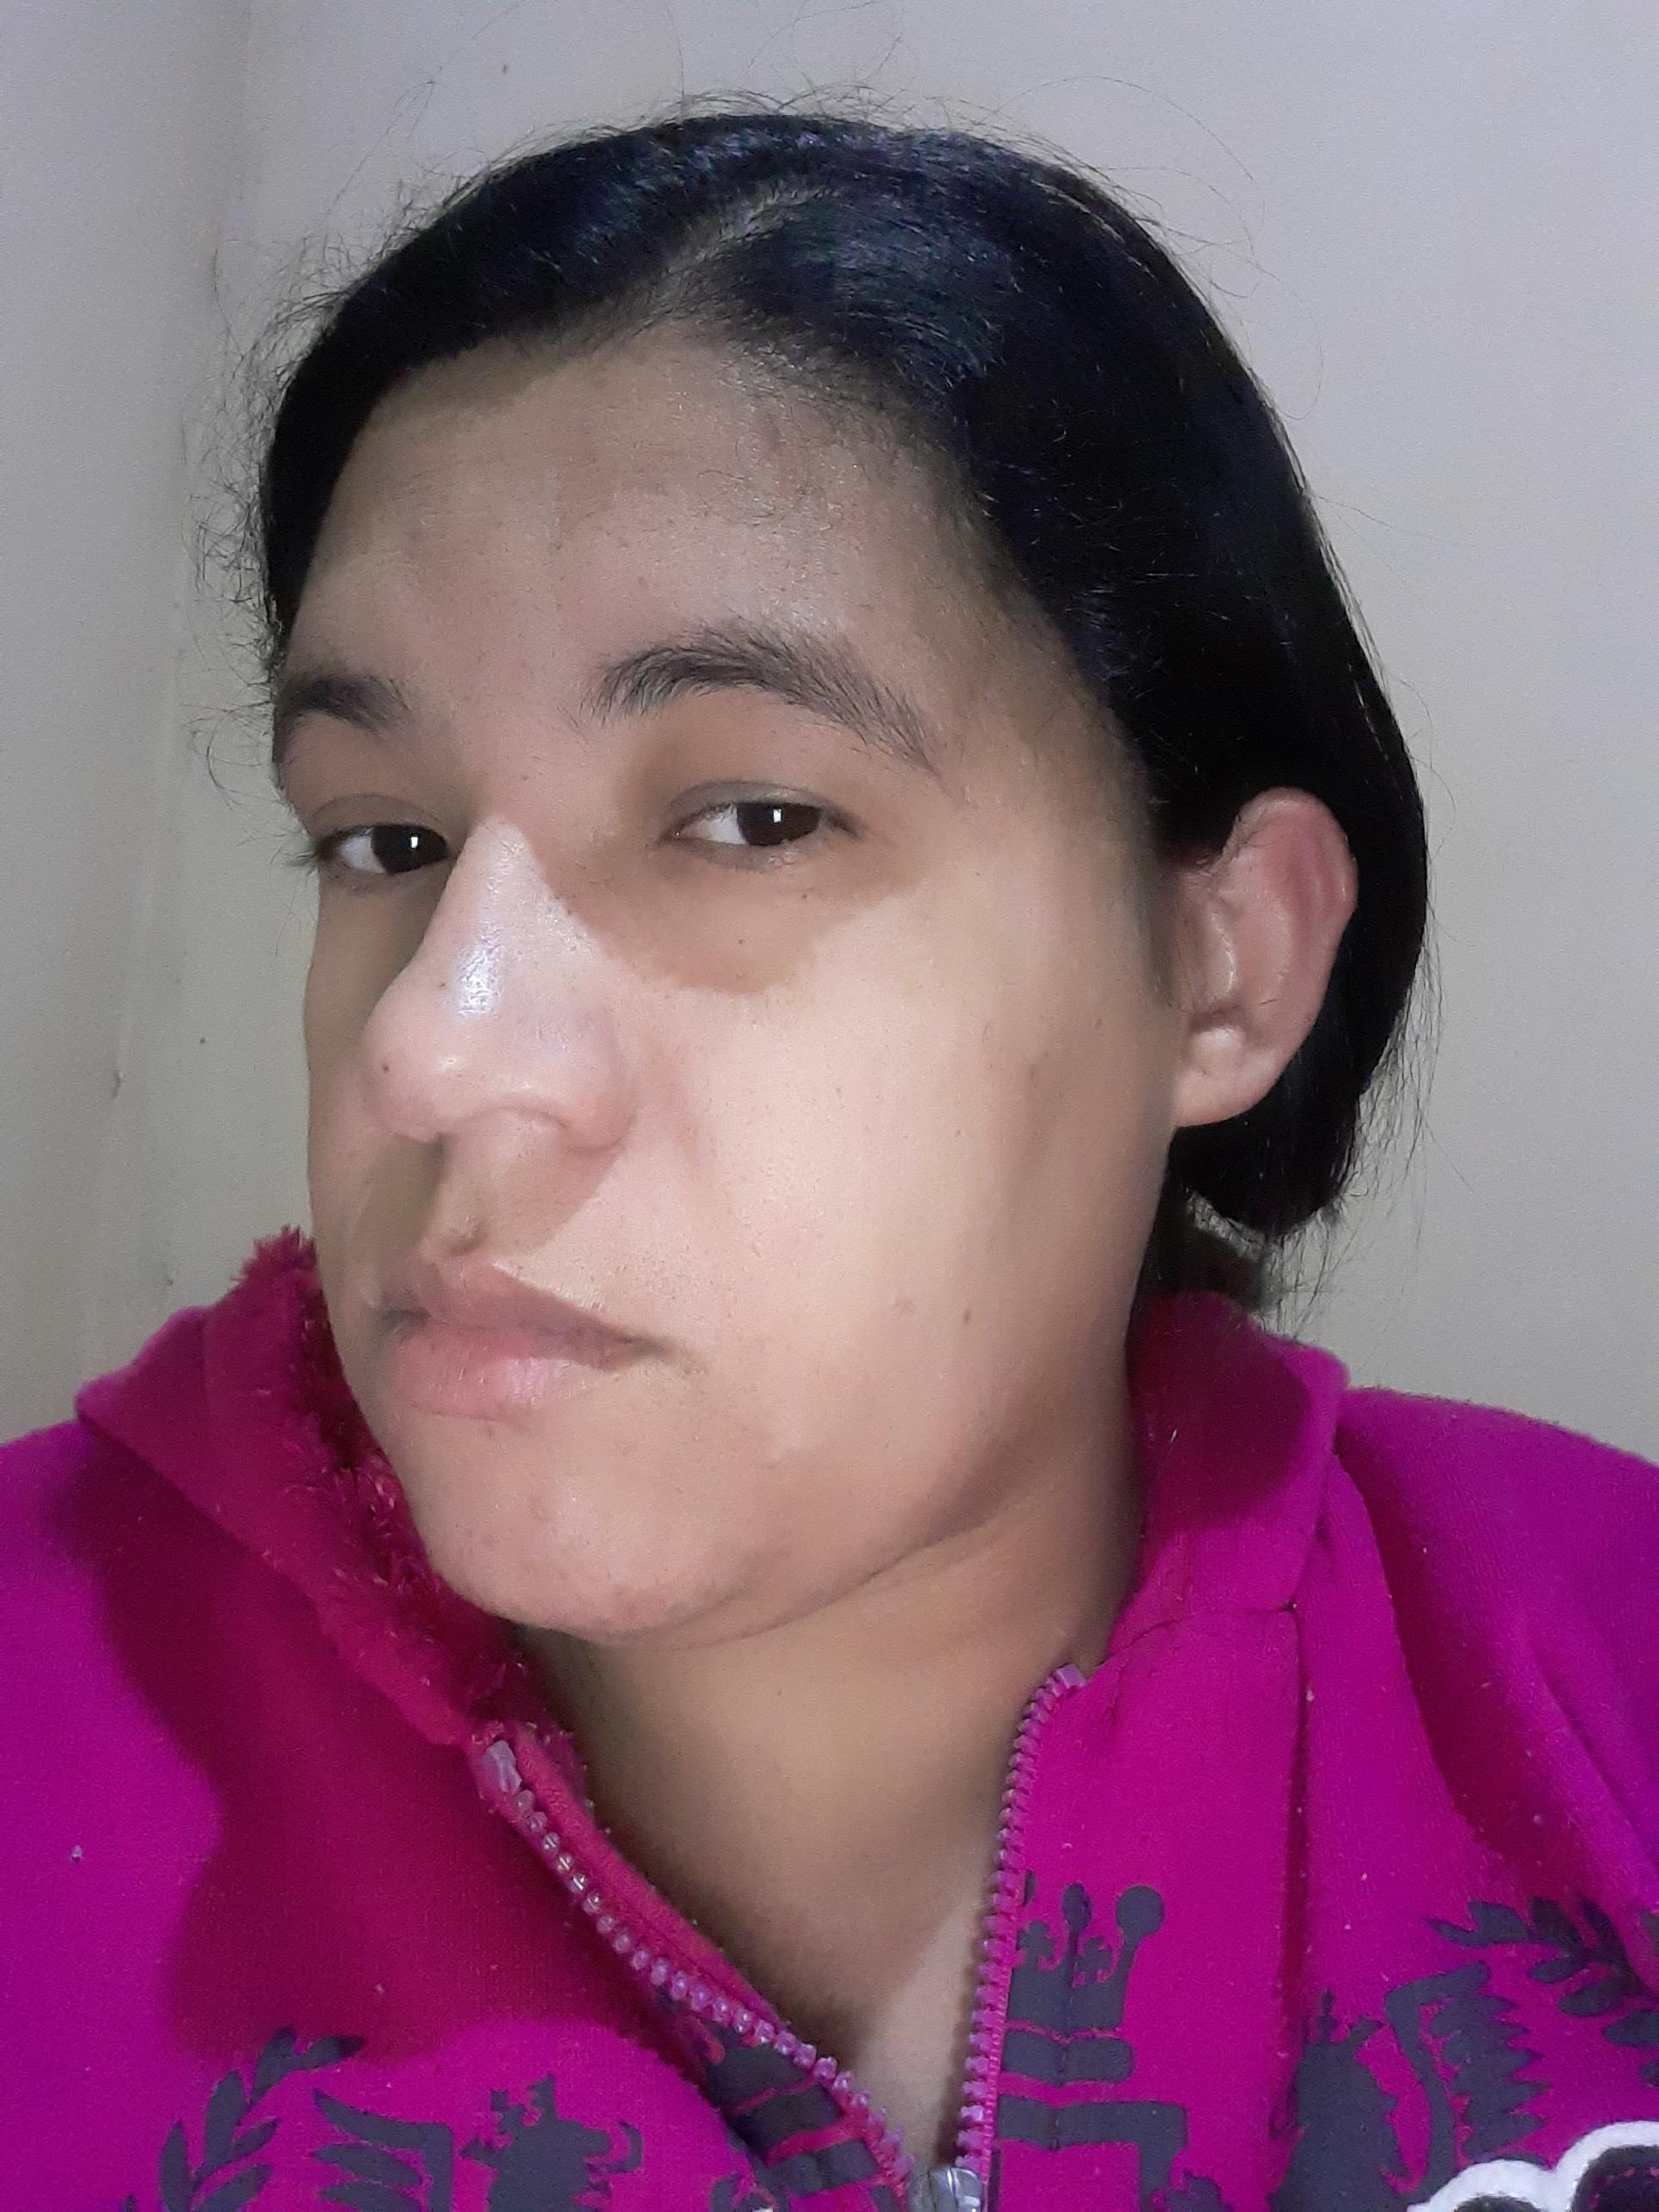Acne: (584, 1564, 702, 1618), (514, 1487, 575, 1534), (469, 1421, 518, 1458), (455, 1527, 504, 1559)
Englarged-Pores: (457, 913, 551, 1036), (718, 1151, 826, 1256), (519, 550, 667, 624), (437, 528, 516, 613)
